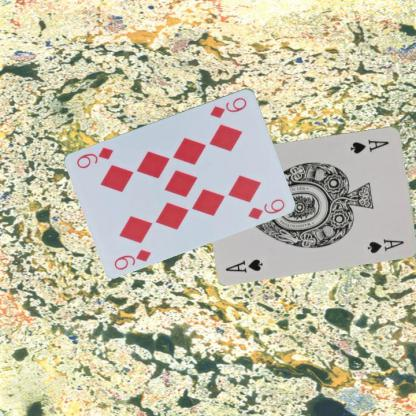9d: (207, 94, 248, 120), (112, 246, 152, 271)
As: (348, 136, 390, 154), (223, 256, 264, 274)
